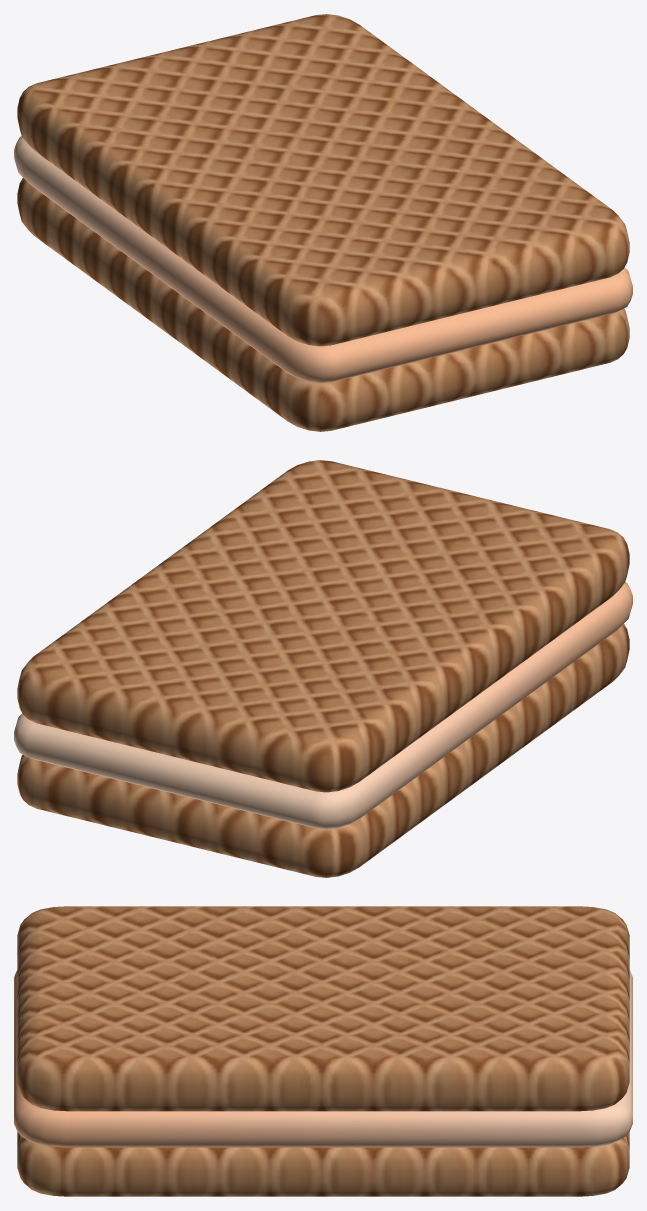
The model's file is candy_waf_15.fbx.
3 renders of one model, top to bottom at view 1: azimuth 30°, elevation 25°; view 2: azimuth 150°, elevation 25°; view 3: azimuth 270°, elevation 25°, orthographic.
Parts seen in each view (by area): view 1: c_w_15; view 2: c_w_15; view 3: c_w_15.
Boxes of the visible parts, x1,y1,x2,y2 form: c_w_15: (14,14,632,431); c_w_15: (14,460,632,877); c_w_15: (14,906,632,1196).
Bounding box in the file's own units: 115 × 44.04 × 180.
